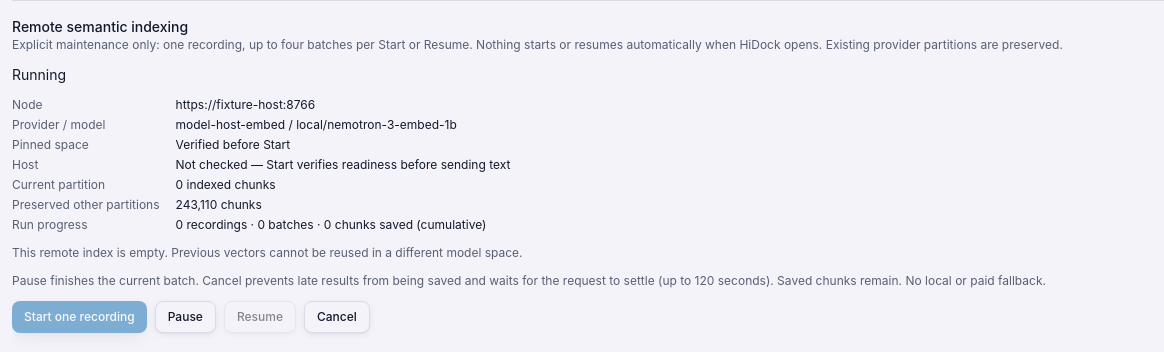
Test case: keeps pause transitional until backend says paused
The width and height of the screenshot is (1164, 352).
Expected: the text "Running" is shown, [12,66,66,83]
Step 1. Click the button "Pause" → click(185, 317), box [155,301,216,333]
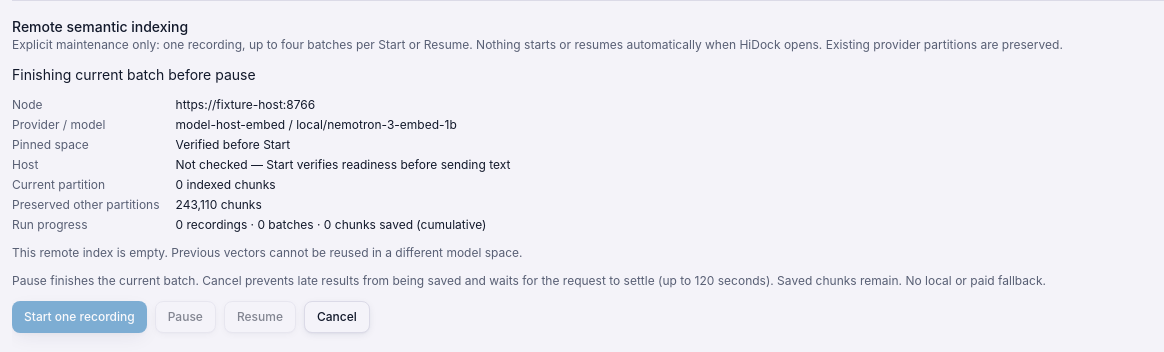
Expected: the button "Resume" is disabled, [224,301,296,333]
Expected: the text "Finishing current batch before pause" is shown, [12,66,256,83]
